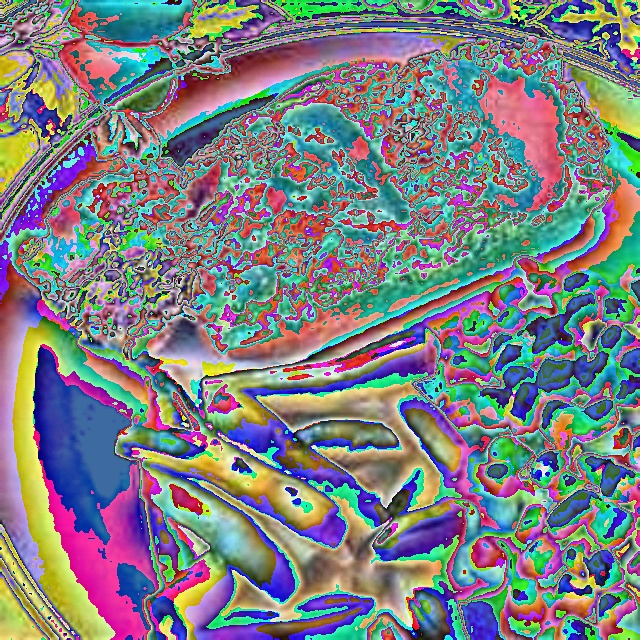background: (13, 30, 639, 639)
